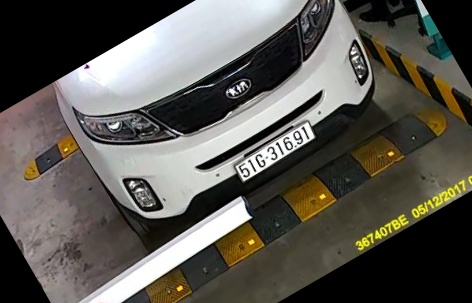plate: (229, 122, 317, 181)
